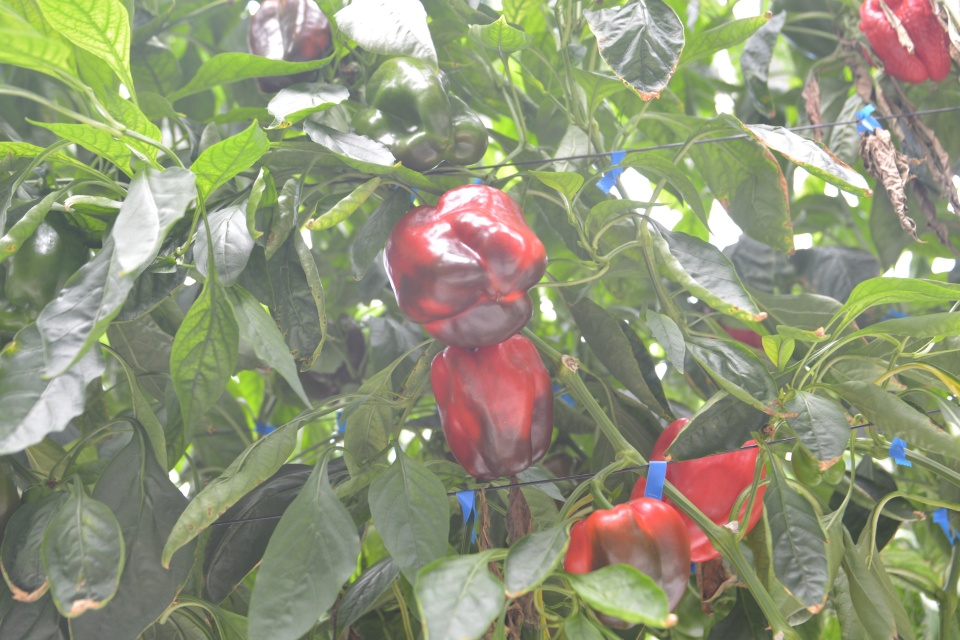fruit: (381, 180, 549, 349), (624, 415, 768, 565), (428, 332, 555, 482), (348, 53, 491, 174), (563, 496, 692, 624), (0, 208, 88, 335), (276, 311, 369, 404), (244, 0, 333, 96), (859, 0, 952, 85), (790, 441, 847, 487)
